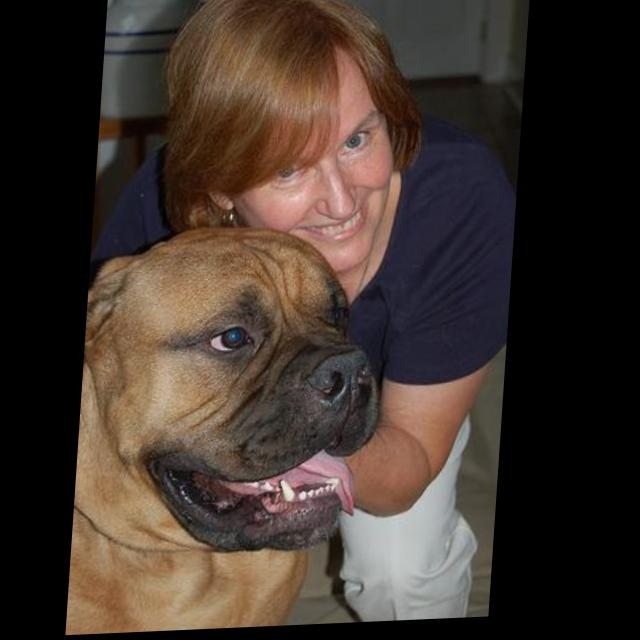bullmastiff: (76, 221, 400, 637)
face: (234, 47, 406, 280)
person: (76, 1, 533, 637)
